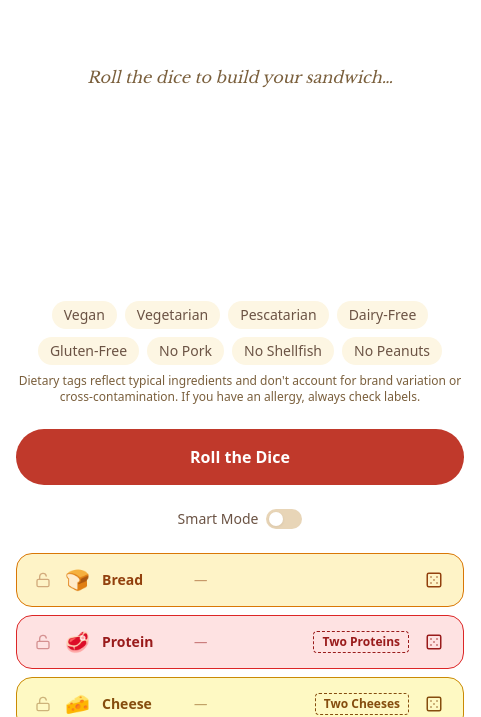
Test case: HomePage › after rolling › shows a sandwich name heading after a full roll
Click the button "Roll the Dice": (240,457) x1=16 y1=429 x2=464 y2=485
Wait 4500 ms
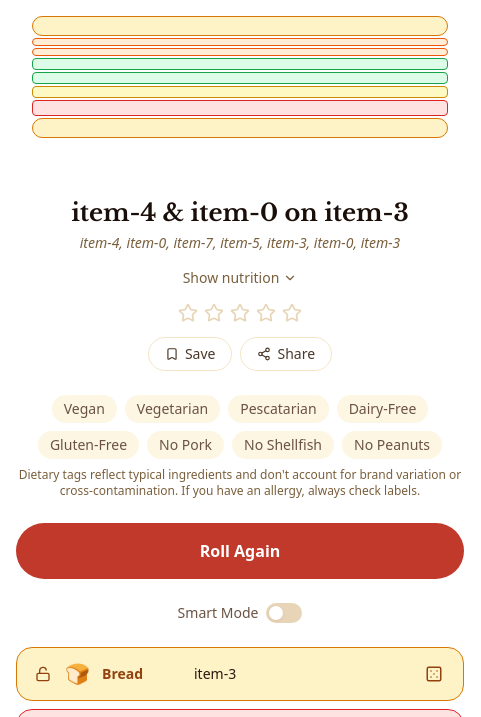
Result: the heading "item-4 & item-0 on item-3" is shown at x1=71 y1=198 x2=409 y2=227
